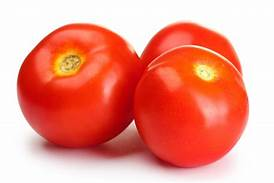tomato: (13, 22, 137, 143), (138, 45, 250, 165)
